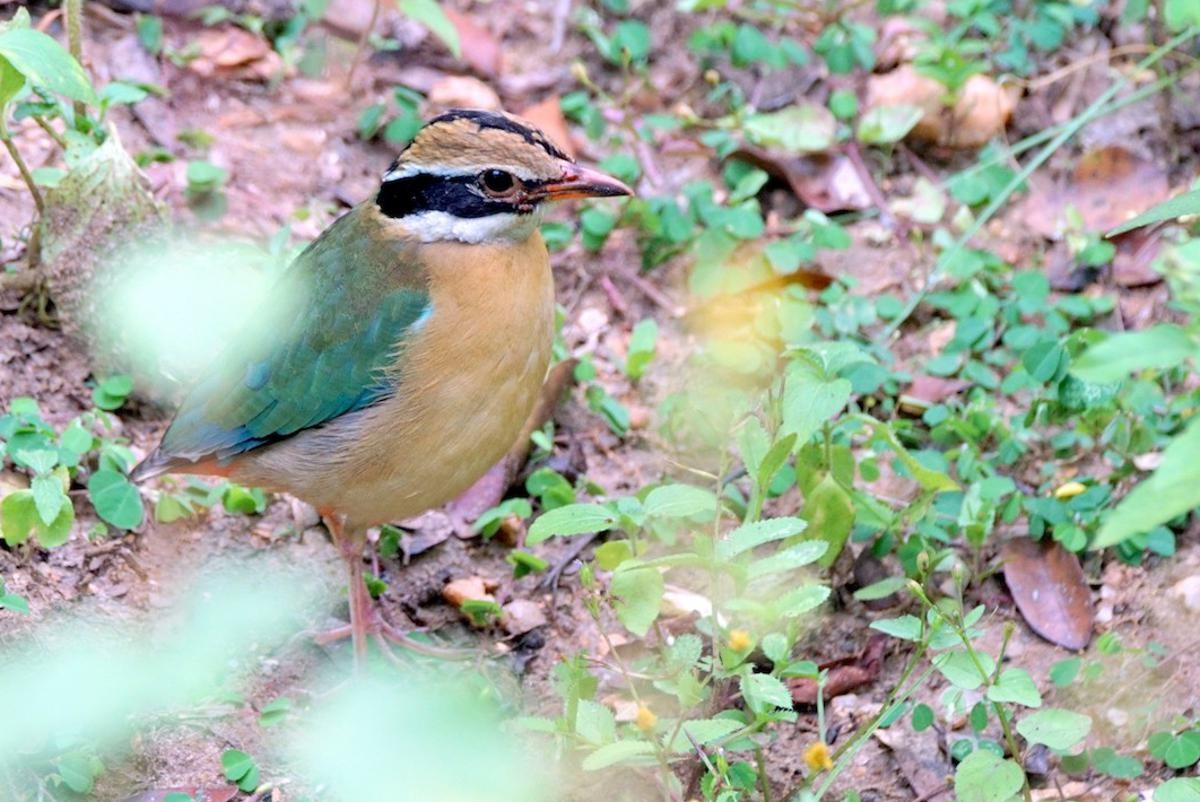pitta: (161, 101, 700, 649)
